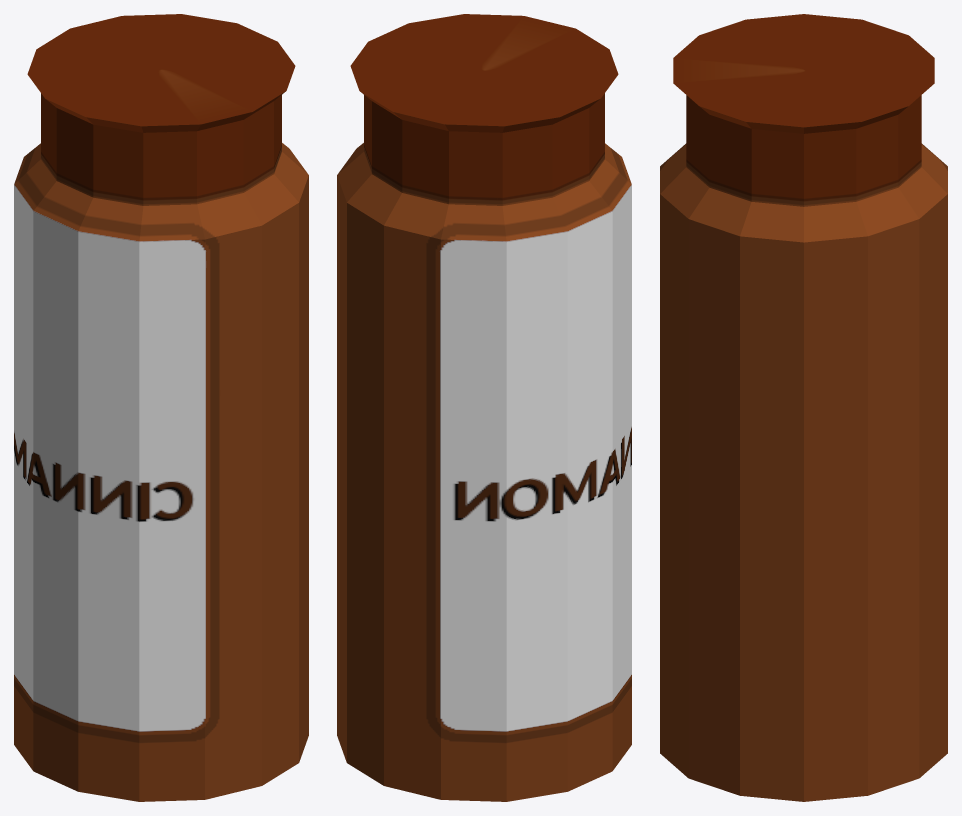
The model's file is spice_cinnamon.obj.
The picture shows the model from 3 angles, left to right: view 1: azimuth 30°, elevation 25°; view 2: azimuth 150°, elevation 25°; view 3: azimuth 270°, elevation 25°; orthographic projection.
Visible parts, largest first — view 1: spice_cinnamon; view 2: spice_cinnamon; view 3: spice_cinnamon.
Boxes of the visible parts, bbox=[...] form: spice_cinnamon: bbox=[14, 14, 308, 801]; spice_cinnamon: bbox=[337, 14, 631, 801]; spice_cinnamon: bbox=[660, 14, 947, 801].
Size of the model in its own units: 0.044 by 0.11 by 0.0429.
1 material, 1 textured.
